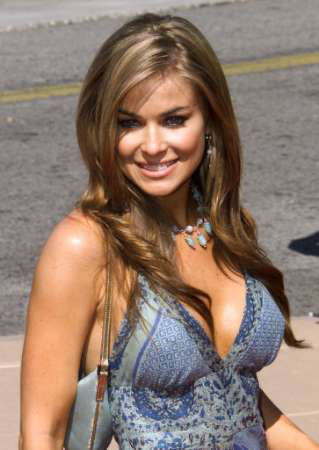Face: (109, 74, 219, 200)
